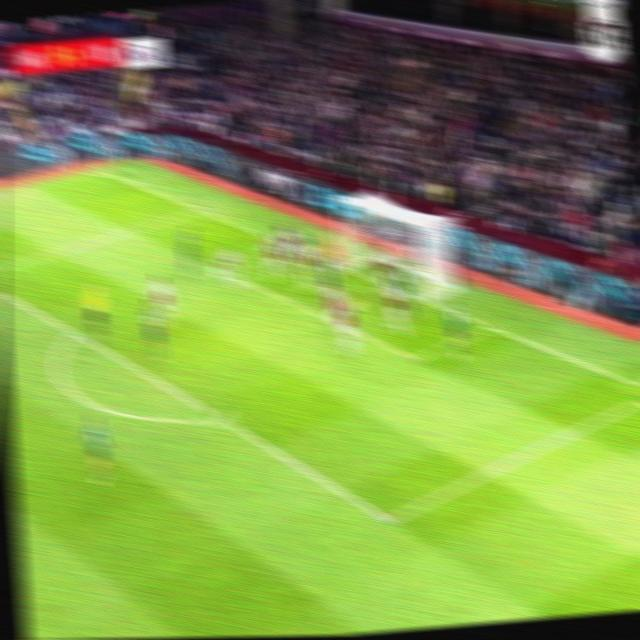bigarea_bottom_inner: (372, 501, 404, 535)
bigarea_top_outter: (188, 199, 210, 217)
bottom_arc_area_intersection: (206, 403, 235, 432)
corner: (86, 160, 114, 178)
smallarea_bottom_inner: (402, 342, 430, 371)
smallarea_bottom_outter: (478, 315, 501, 336)
smallarea_top_inner: (212, 261, 237, 279)
top_arc_area_intersection: (59, 317, 89, 347)
